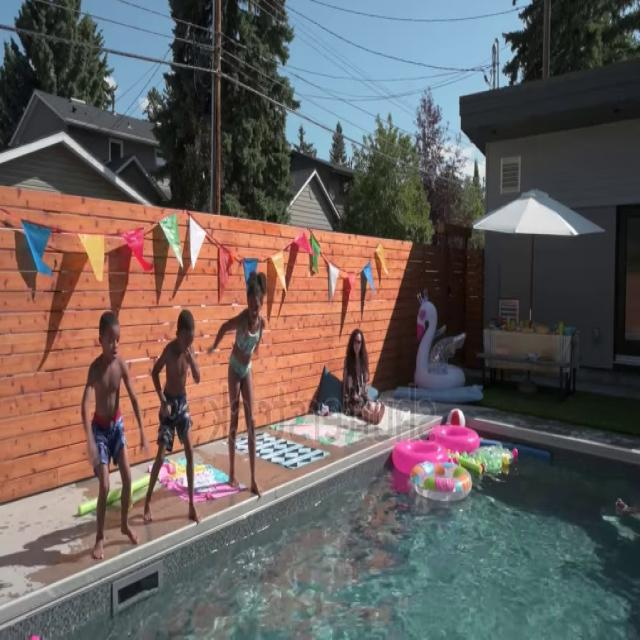adult: (344, 326, 384, 428)
child: (81, 310, 146, 560), (208, 272, 272, 493), (144, 307, 201, 528)
